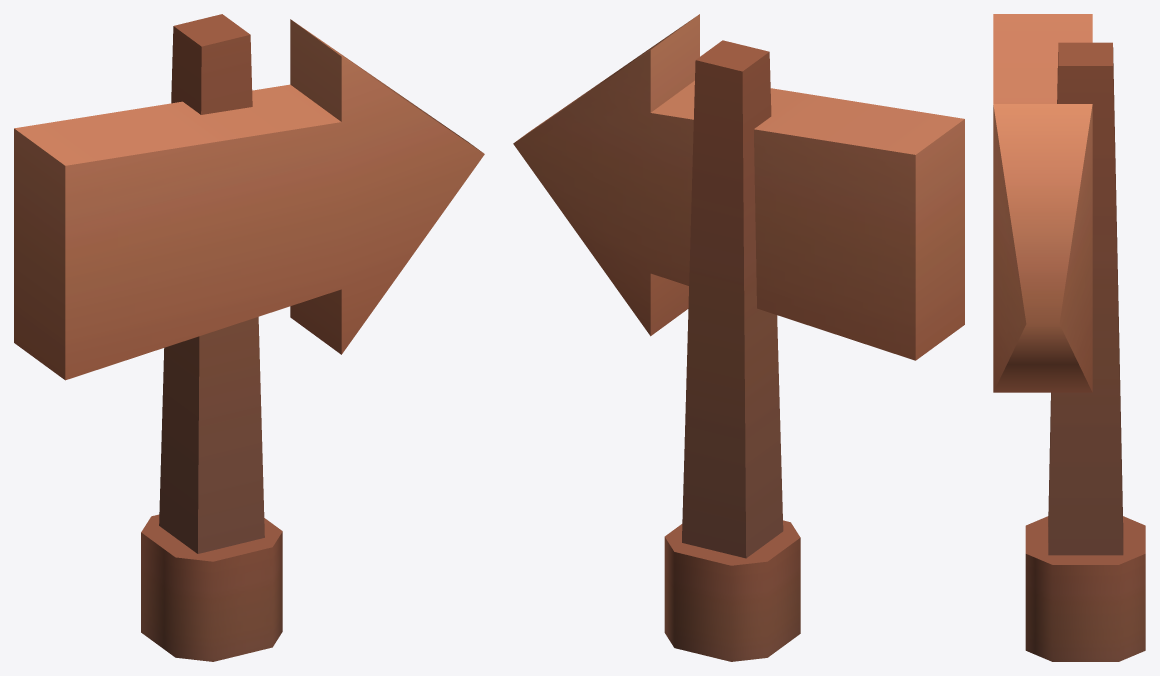
The model's file is kenney-platformer-arrow.glb.
3 renders of one model, left to right at view 1: azimuth 30°, elevation 25°; view 2: azimuth 150°, elevation 25°; view 3: azimuth 270°, elevation 25°, orthographic. The views are drawn at different scales.
Visible parts, largest first — view 1: arrow; view 2: arrow; view 3: arrow.
Boxes of the visible parts, x1,y1,x2,y2 form: arrow: (14,14,484,661); arrow: (513,14,964,661); arrow: (993,14,1145,661).
Bounding box in the file's own units: 0.4557 × 0.6 × 0.1422.
Materials: 1 (1 with a texture image).
